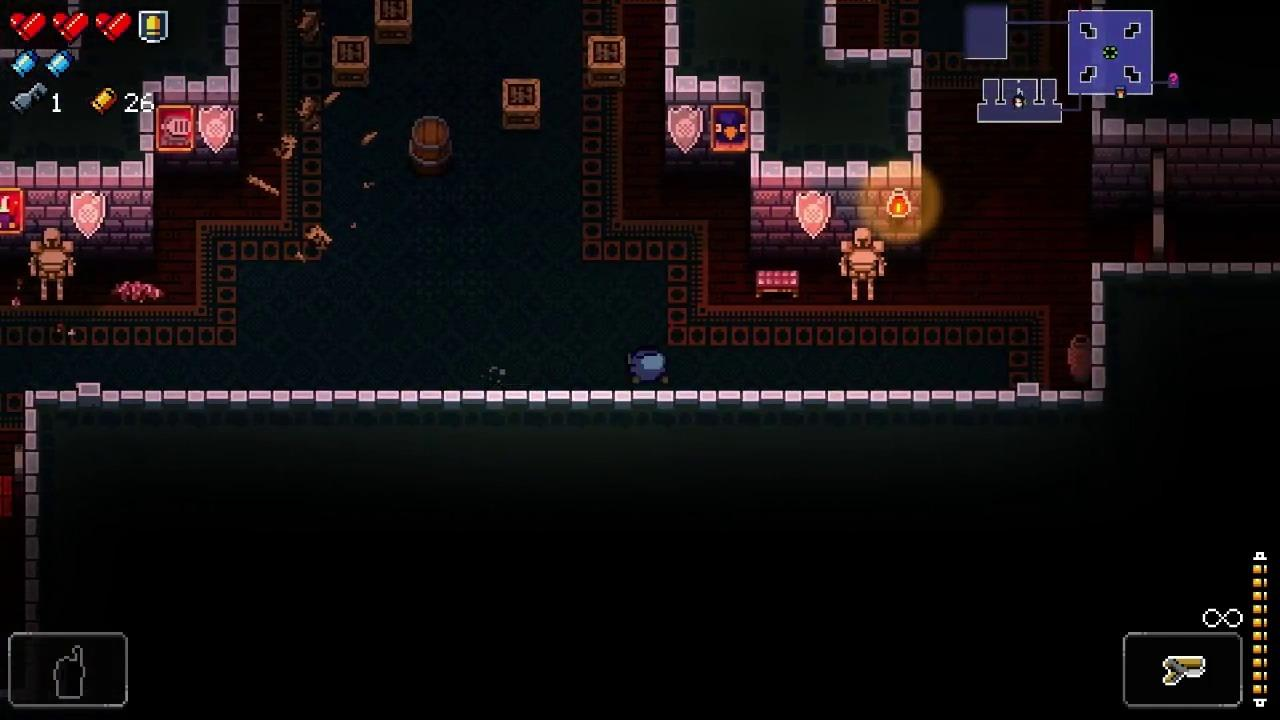player: (627, 348, 670, 387)
unlocked_door: (1152, 149, 1166, 261), (13, 445, 25, 533)
